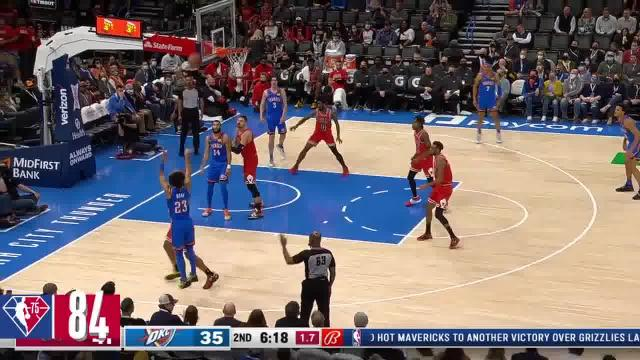player: (157, 147, 217, 295), (284, 97, 353, 180), (414, 140, 464, 250), (399, 109, 447, 208), (226, 110, 266, 218), (467, 53, 504, 142), (202, 115, 232, 221), (611, 101, 640, 205), (263, 76, 293, 173)
